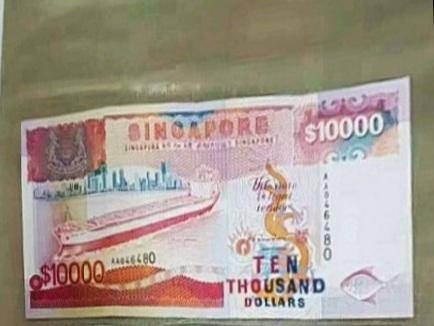10000SingaporeDollar: (25, 83, 408, 316)
